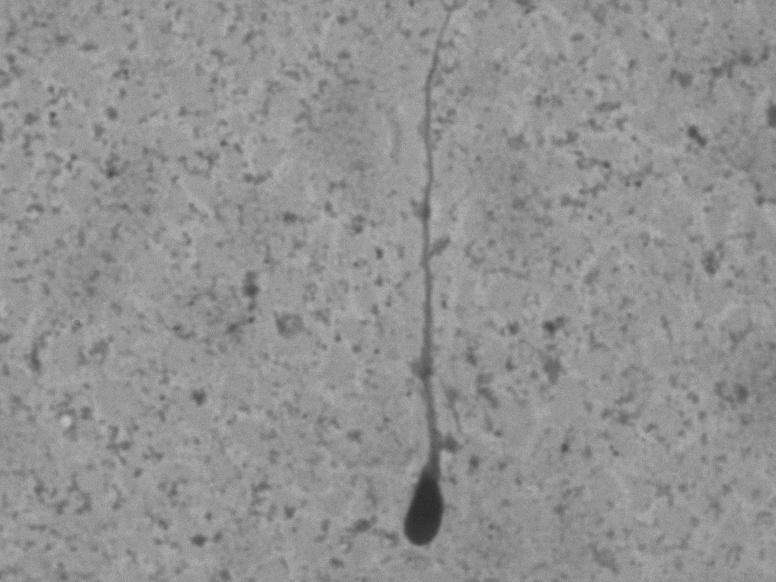Abnormal: (367, 18, 490, 558)
